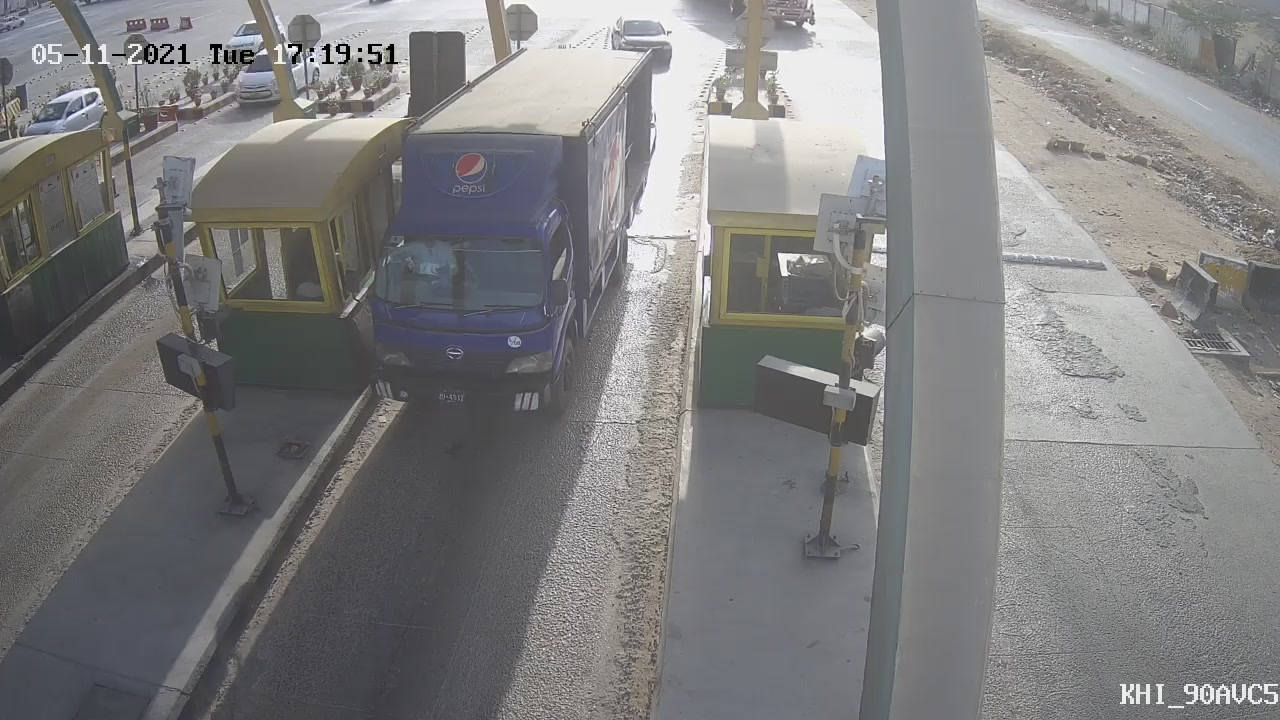F5: (305, 27, 683, 451)
